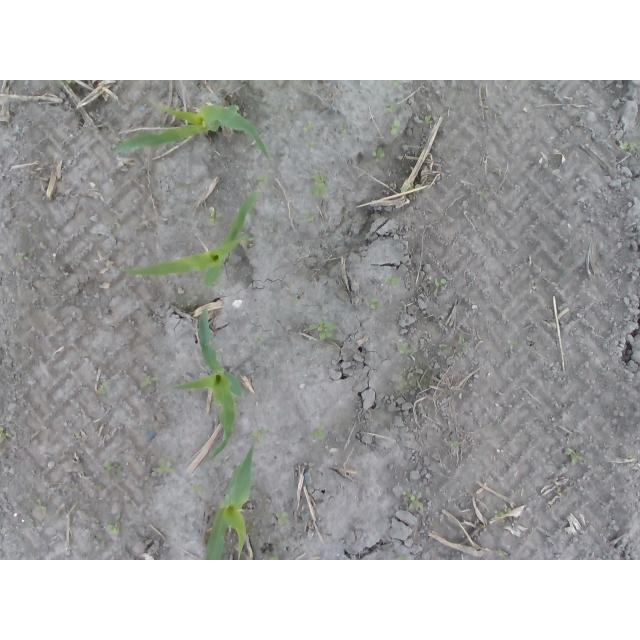Maize: (117, 193, 259, 288), (168, 307, 244, 465), (114, 98, 273, 164), (207, 445, 262, 559)
Weeds: (438, 338, 470, 357), (308, 320, 336, 340), (312, 175, 332, 198), (564, 448, 585, 469), (403, 492, 422, 513), (203, 208, 222, 224), (620, 140, 637, 156), (278, 511, 293, 528), (107, 462, 126, 475), (249, 429, 268, 442), (96, 383, 109, 400), (434, 279, 446, 297), (313, 424, 324, 443), (159, 460, 175, 473), (142, 376, 159, 386), (15, 250, 29, 262), (390, 120, 402, 134), (387, 276, 401, 288), (418, 117, 434, 127), (395, 343, 409, 353), (110, 525, 122, 536), (341, 124, 351, 137), (386, 101, 397, 112), (374, 150, 384, 162), (1, 429, 8, 443), (260, 175, 269, 185), (370, 299, 379, 309), (60, 80, 74, 86), (479, 189, 486, 201), (306, 140, 315, 149), (396, 81, 405, 90), (304, 122, 312, 132), (255, 338, 263, 347), (308, 214, 317, 222)
